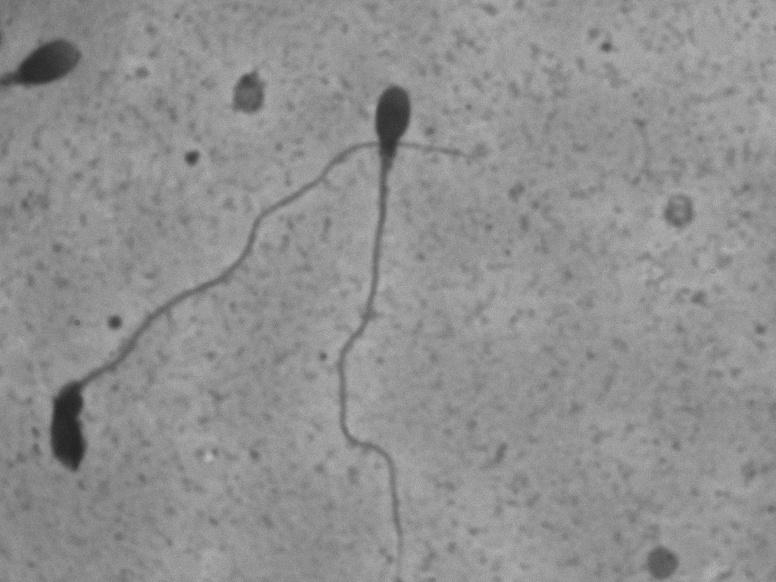Abnormal: (5, 205, 258, 476), (324, 70, 423, 574)
